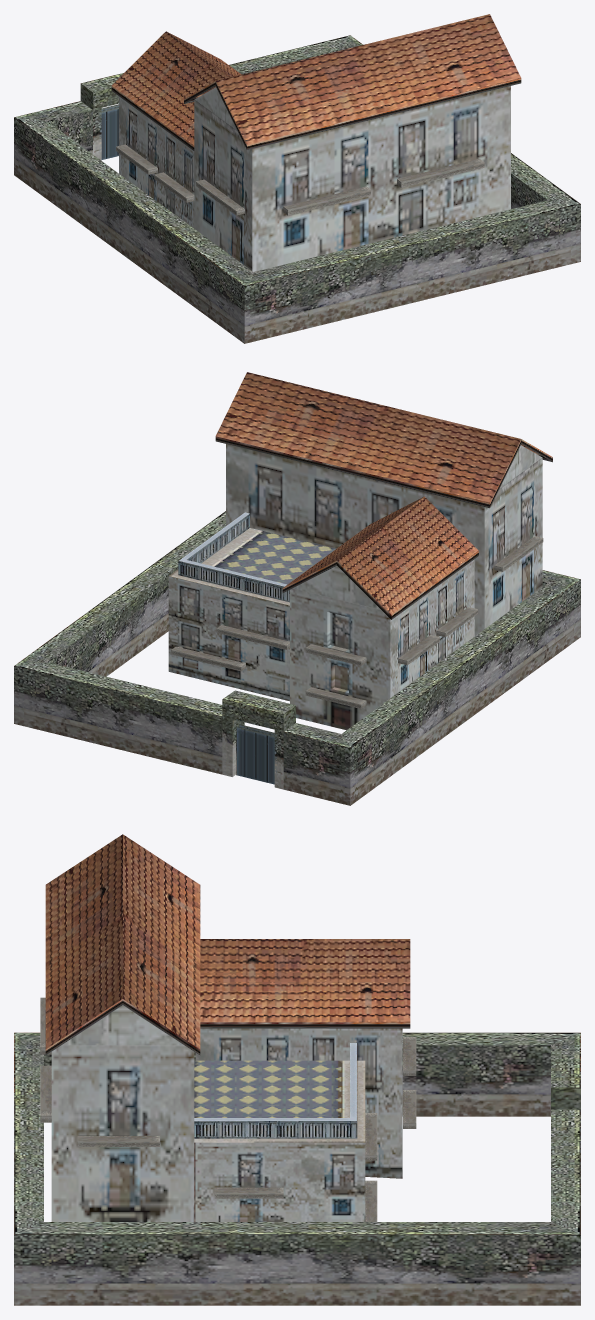
Rendered from Civilian - Residential Building - Greek House 3 - CBGREEK3.glb.
The picture shows the model from 3 angles, top to bottom: view 1: azimuth 30°, elevation 25°; view 2: azimuth 150°, elevation 25°; view 3: azimuth 270°, elevation 25°; orthographic projection. The views are drawn at different scales.
Parts seen in each view (by area): view 1: CBGREEK3; view 2: CBGREEK3; view 3: CBGREEK3.
Boxes of the visible parts, x1,y1,x2,y2 form: CBGREEK3: (14,14,580,343); CBGREEK3: (14,372,580,805); CBGREEK3: (14,834,580,1305).
Size of the model in its own units: 99.03 by 63.93 by 118.
1 material, 1 textured.
